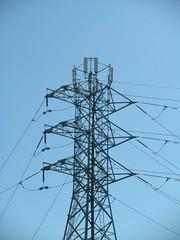power_tower: (36, 53, 140, 240)
